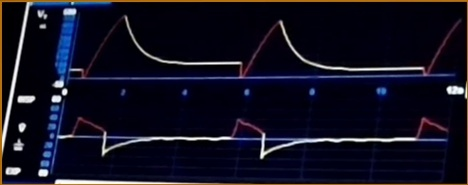Flow: (63, 106, 446, 169)
Leakage Volume: (69, 16, 460, 84)
